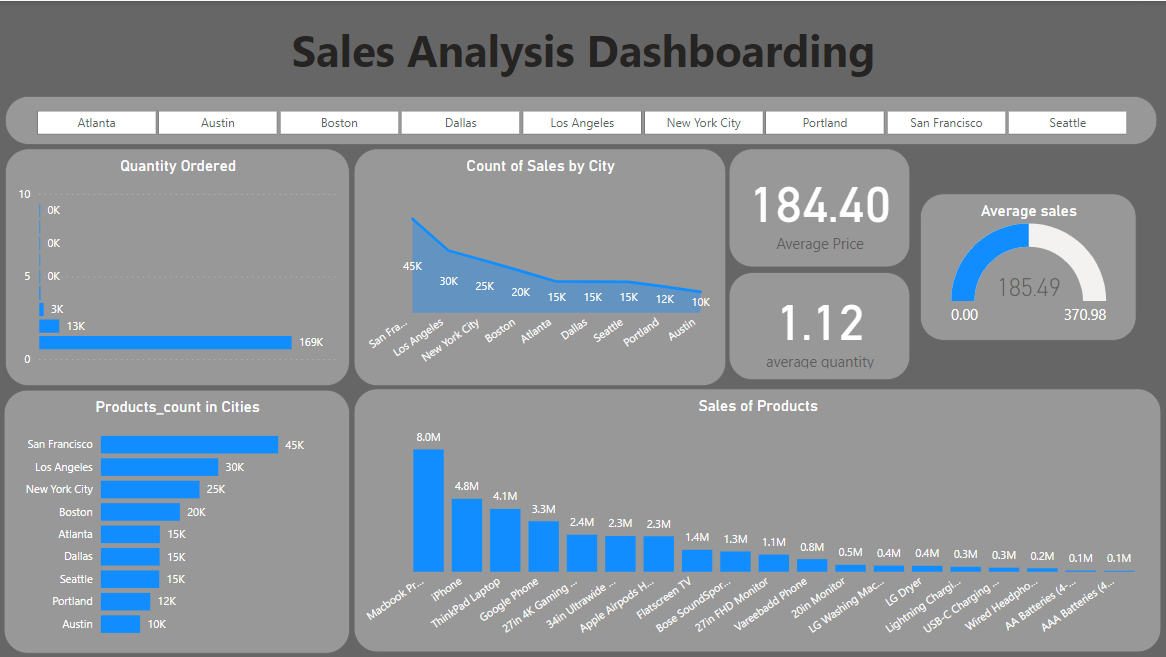

The dashboard page shown, as its layout file describes it:
{"tool":"powerbi","page":{"name":"Page 1","canvas":[1280,720],"ordinal":0},"visuals":[{"type":"barChart","title":"Products_count in Cities","fields":{"Category":["Sales Data.City"],"Y":["CountNonNull(Sales Data.Product)"]},"box":[4.1,426.8,380.1,289.5],"z":0},{"type":"clusteredColumnChart","title":"Sales of Products","fields":{"Category":["Sales Data.Product"],"Y":["Sum(Sales Data.Price Each)"]},"box":[388.3,425.4,886.5,289.5],"z":1},{"type":"barChart","title":"Quantity Ordered","fields":{"Category":["Sales Data.Quantity Ordered"],"Y":["CountNonNull(Sales Data.Quantity Ordered)"]},"box":[5.5,161.9,378.7,260.7],"z":2},{"type":"stackedAreaChart","fields":{"Category":["Sales Data.City"],"Y":["CountNonNull(Sales Data.Sales)"]},"box":[388.3,161.9,408.9,260.7],"z":3},{"type":"slicer","fields":{"Values":["Sales Data.City"]},"box":[5.5,104.3,1265.2,53.5],"z":4},{"type":"textbox","box":[8.2,6.9,1262.4,94.7],"z":5},{"type":"card","fields":{"Values":["Sales Data.Average Price"]},"box":[800,161.9,199,130.4],"z":6},{"type":"gauge","fields":{"Y":["Sales Data.Average sales"]},"box":[1010,211.3,237.4,161.9],"z":7},{"type":"card","fields":{"Values":["Sales Data.average quantity"]},"box":[800,297.8,199,118],"z":8}]}

Visuals, with their boxes in screenshot pixels (x1, y1, x2, y2), scaled from the page's 1280x720 canvas onto the 1166x657 screenshot:
"Products_count in Cities" barChart: bbox=[4, 389, 350, 654]
"Sales of Products" clusteredColumnChart: bbox=[354, 388, 1161, 652]
"Quantity Ordered" barChart: bbox=[5, 148, 350, 386]
stackedAreaChart - Sales Data.City x CountNonNull(Sales Data.Sales): bbox=[354, 148, 726, 386]
slicer - Sales Data.City: bbox=[5, 95, 1158, 144]
textbox: bbox=[7, 6, 1157, 93]
card - Sales Data.Average Price: bbox=[729, 148, 910, 267]
gauge - Sales Data.Average sales: bbox=[920, 193, 1136, 341]
card - Sales Data.average quantity: bbox=[729, 272, 910, 379]
